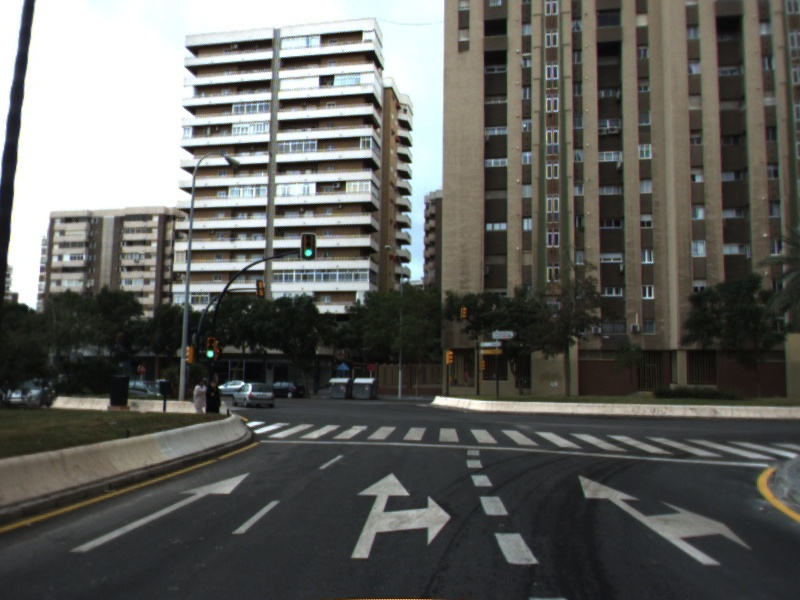STRAIGHT: (67, 470, 253, 555)
STRAIGHT_RIGHT: (576, 473, 756, 567), (348, 470, 454, 560)
